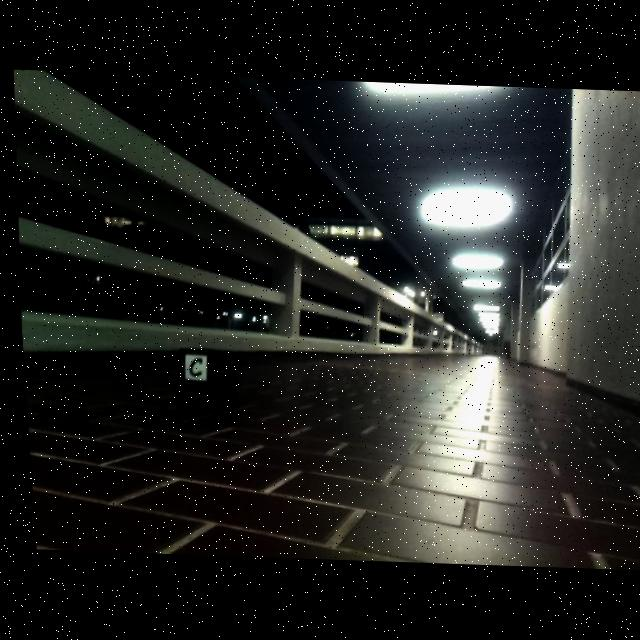C: (183, 358, 197, 377)
